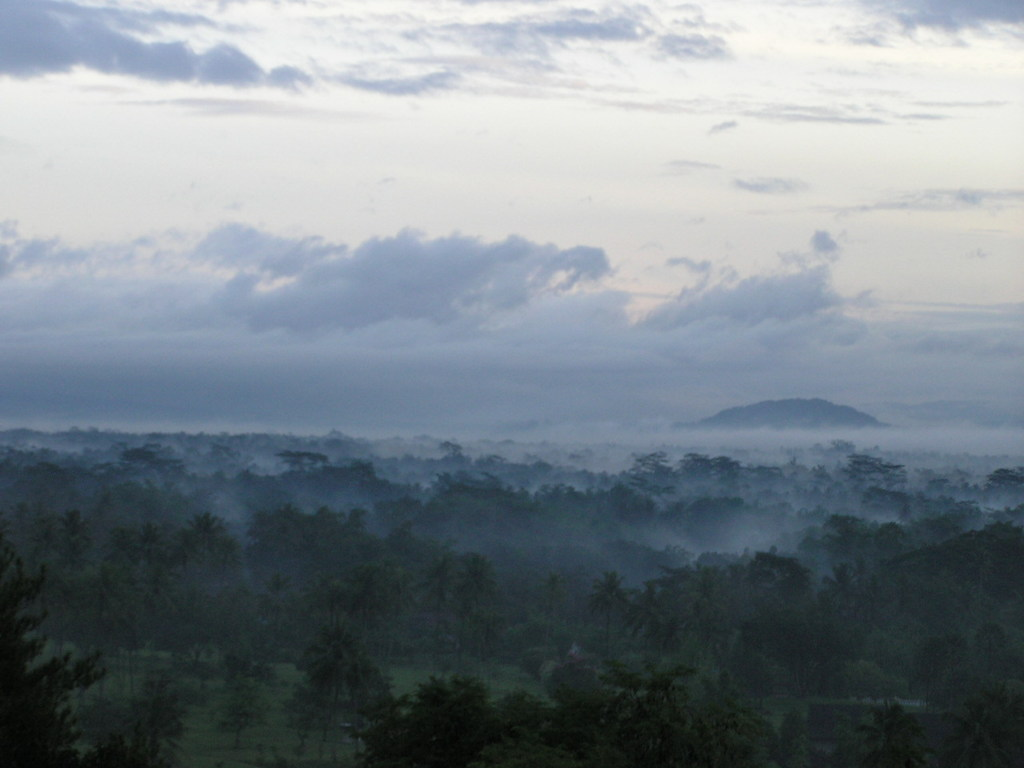Tree: (288, 615, 390, 767)
